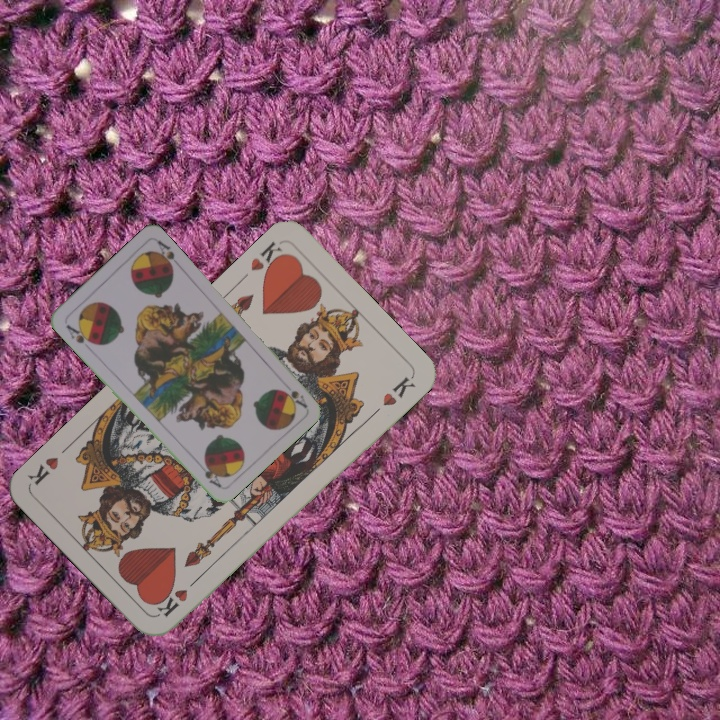HK: (152, 572, 203, 619), (246, 236, 290, 279)
SA: (62, 320, 97, 352), (279, 386, 310, 411)
